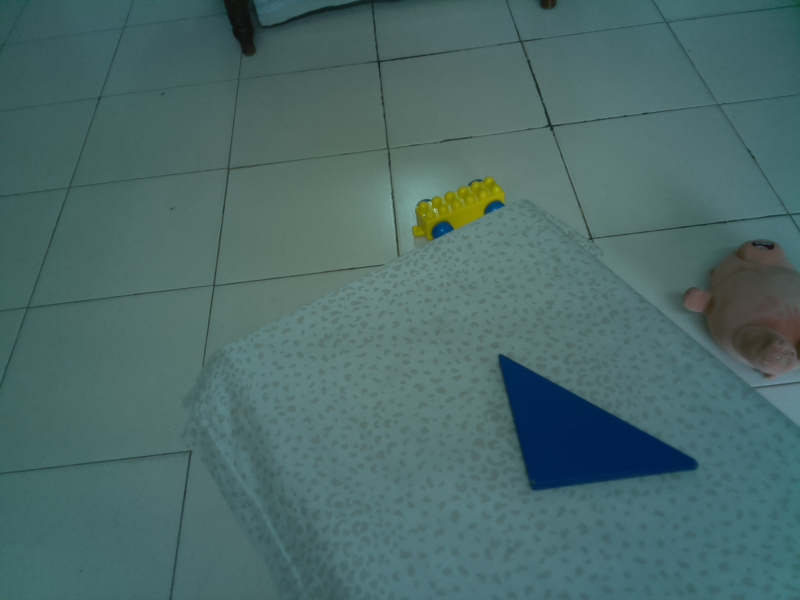Triangle: (491, 346, 703, 498)
toy_Car: (407, 174, 507, 244)
